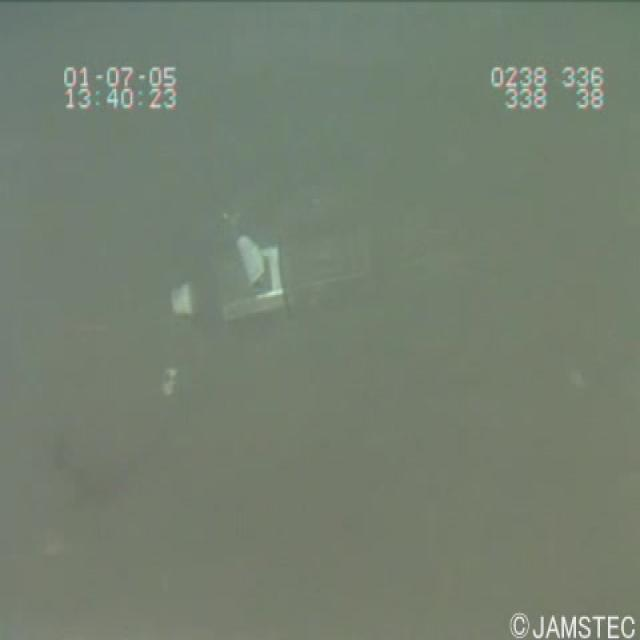plastic: (158, 213, 382, 347)
